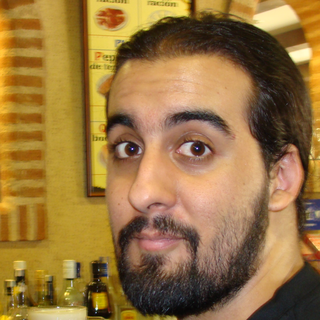eye: (173, 135, 219, 164), (109, 134, 147, 163)
